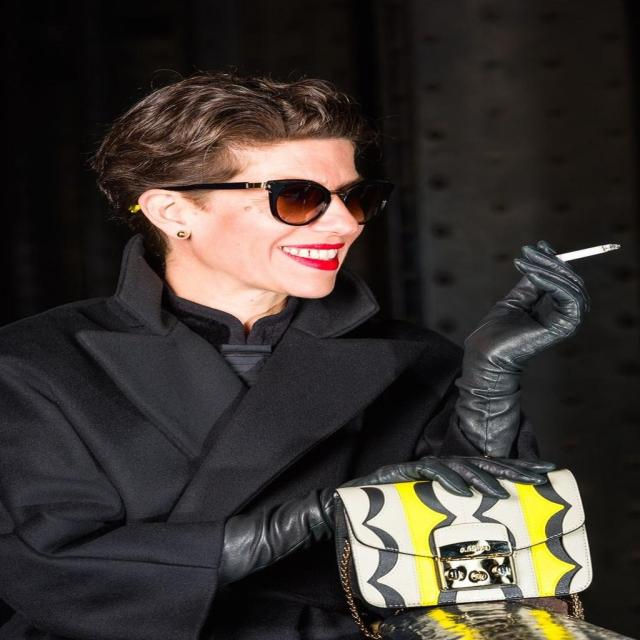smoking: (120, 84, 632, 366)
